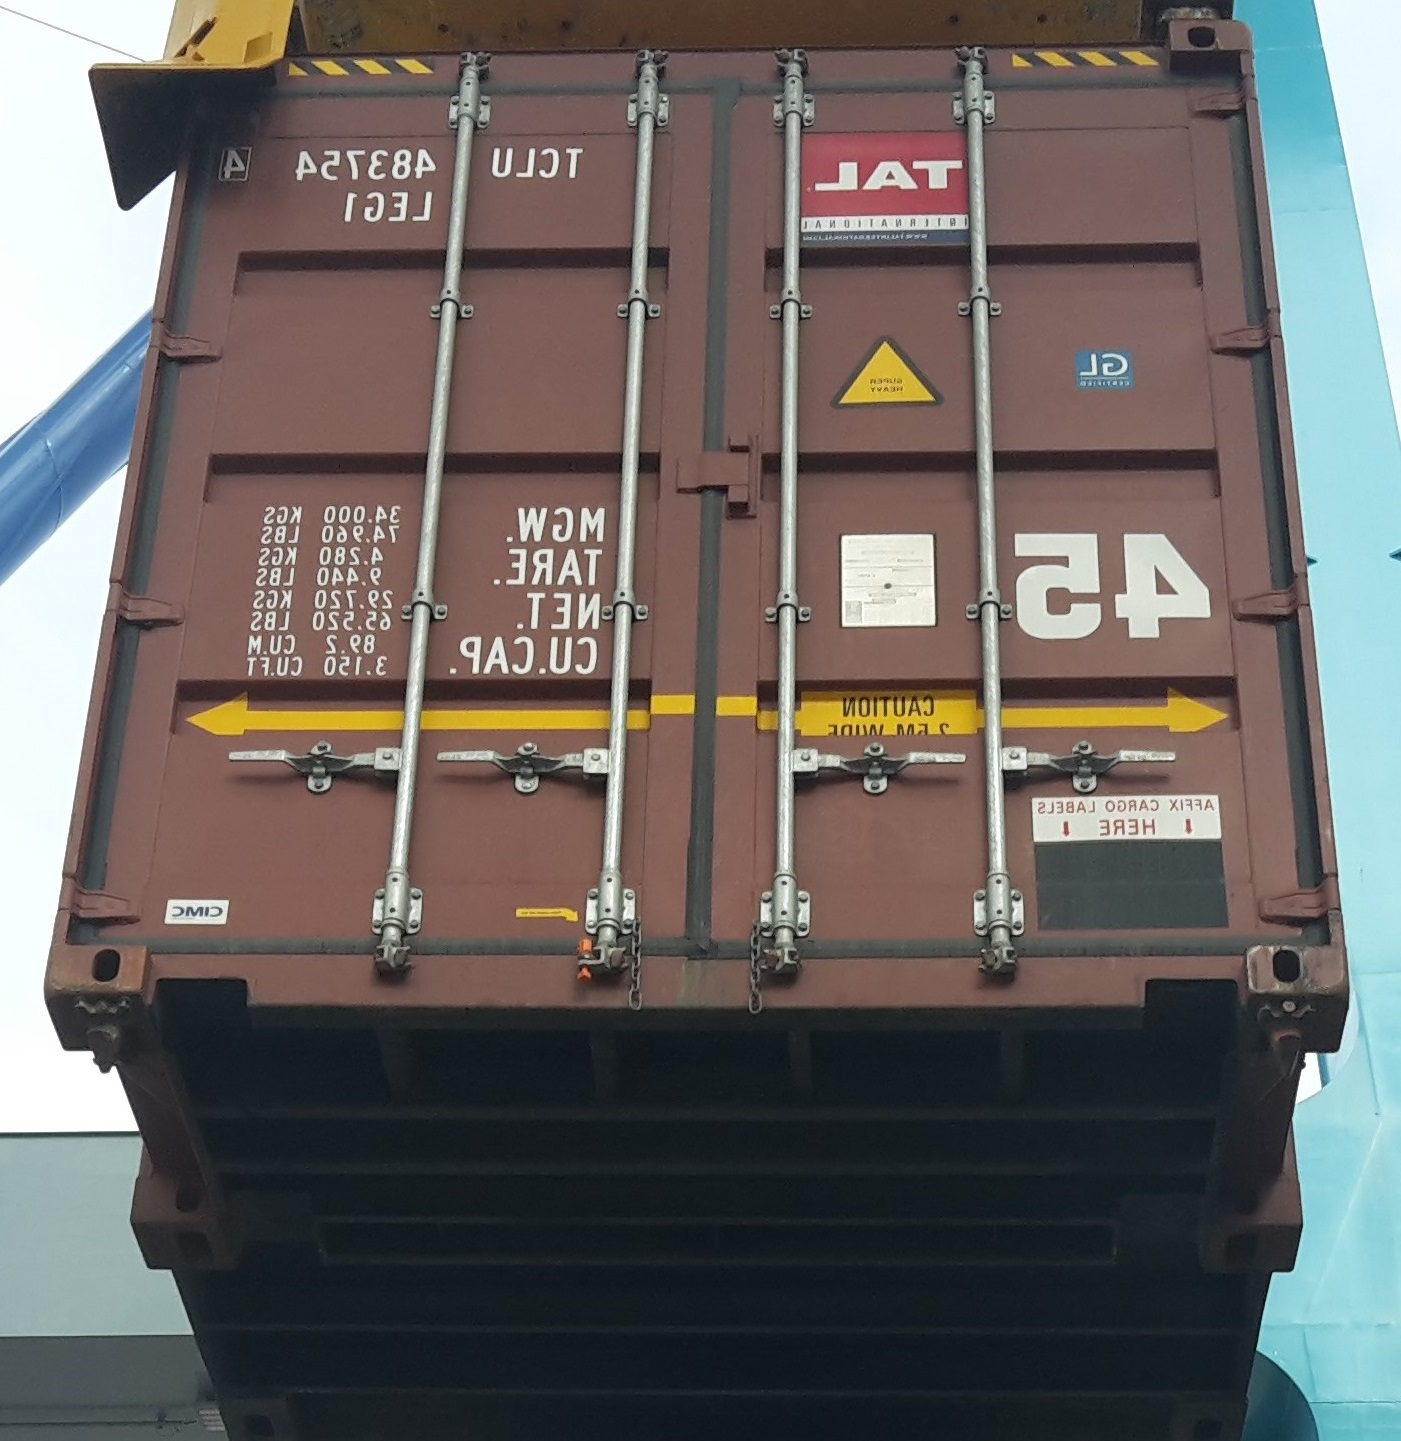container_door: (44, 15, 1344, 1007)
